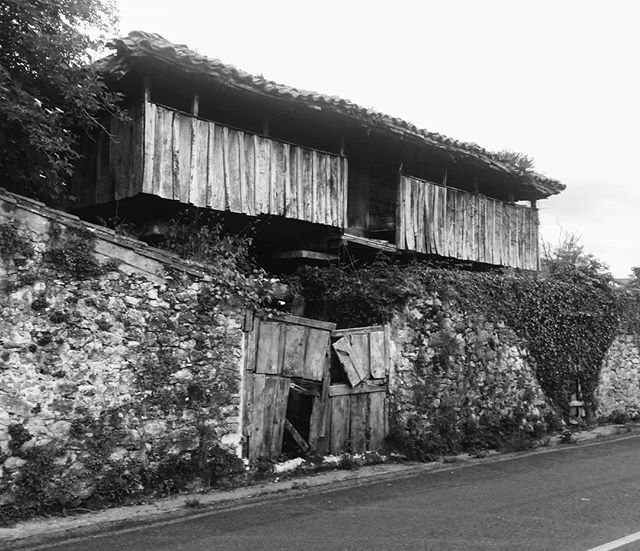building: (74, 33, 567, 275)
door: (245, 296, 403, 472)
street: (1, 433, 640, 551)
